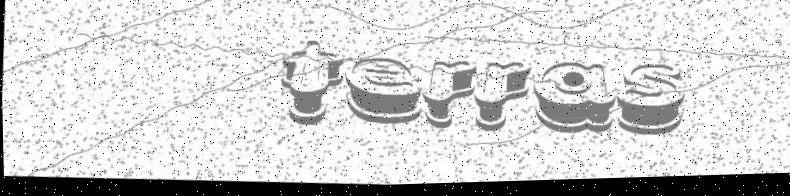a: (531, 61, 616, 141)
e: (342, 52, 425, 126)
r: (420, 56, 478, 132), (475, 61, 533, 136)
s: (615, 61, 690, 142)
t: (273, 36, 350, 128)
